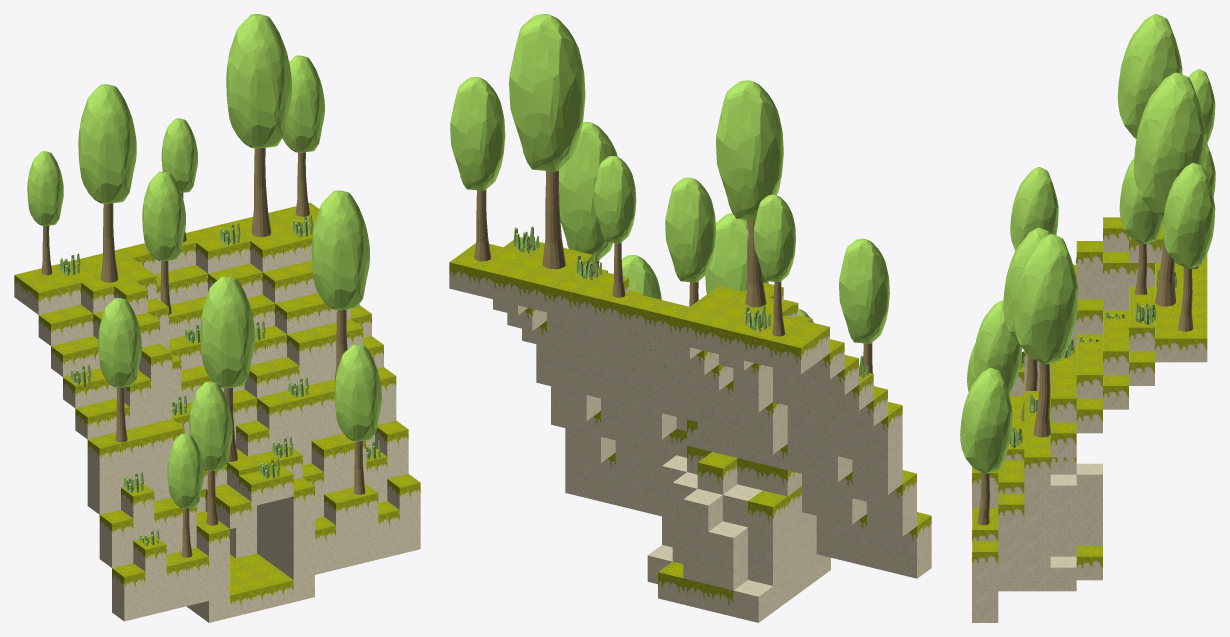
The model's file is Entrance_Dungeon.fbx.
3 renders of one model, left to right at view 1: azimuth 30°, elevation 25°; view 2: azimuth 150°, elevation 25°; view 3: azimuth 270°, elevation 25°, orthographic. The views are drawn at different scales.
Parts seen in each view (by area): view 1: Ground_Grass_D__2__1, Ground_Sand_A__8__1, Ground_Sand_A__7_, Ground_Grass_D__2__1__22_, Ground_Sand_A__14__1; view 2: Ground_Grass_D__2__1, Ground_Sand_A__7_, Ground_Sand_A__8__1, Ground_Sand_A__14__1, Ground_Grass_D__2__1__22_; view 3: Ground_Grass_D__2__1, Ground_Sand_A__8__1, Ground_Sand_A__14__1, Ground_Grass_D__2__1__22_.
Boxes of the visible parts, x1,y1,x2,y2 form: Ground_Grass_D__2__1: (14,14,408,557); Ground_Sand_A__8__1: (257,473,420,579); Ground_Sand_A__7_: (99,511,229,621); Ground_Grass_D__2__1__22_: (186,553,314,622); Ground_Sand_A__14__1: (230,505,256,558); Ground_Grass_D__2__1: (449,14,916,510); Ground_Sand_A__7_: (748,486,931,585); Ground_Sand_A__8__1: (565,428,686,547); Ground_Sand_A__14__1: (672,472,761,590); Ground_Grass_D__2__1__22_: (647,545,830,622); Ground_Grass_D__2__1: (960,14,1215,551); Ground_Sand_A__8__1: (972,496,1050,622); Ground_Sand_A__14__1: (1050,463,1102,556); Ground_Grass_D__2__1__22_: (998,545,1102,591).
Bounding box in the file's own units: 8473 × 13608 × 5871.
Materials: 3 (3 with a texture image).
